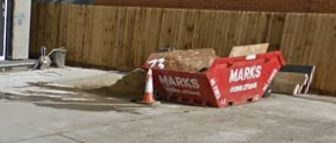cone: (128, 66, 163, 105)
